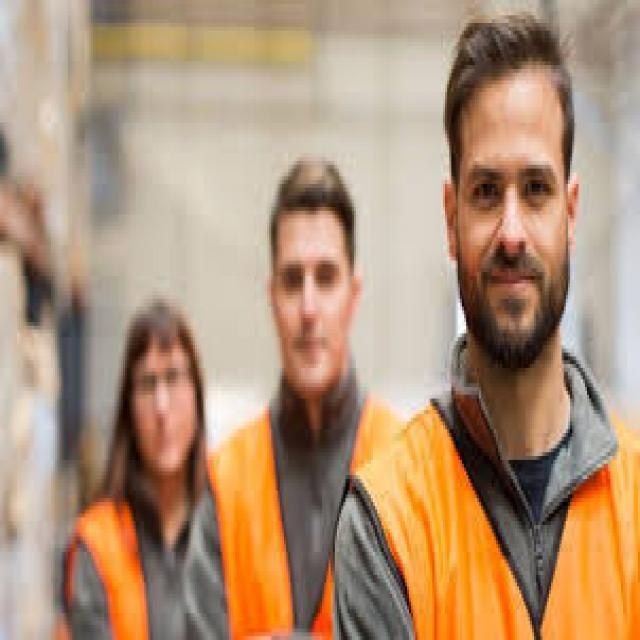Reflective-Jacket: (398, 391, 638, 640), (187, 398, 414, 640), (72, 475, 252, 640)
